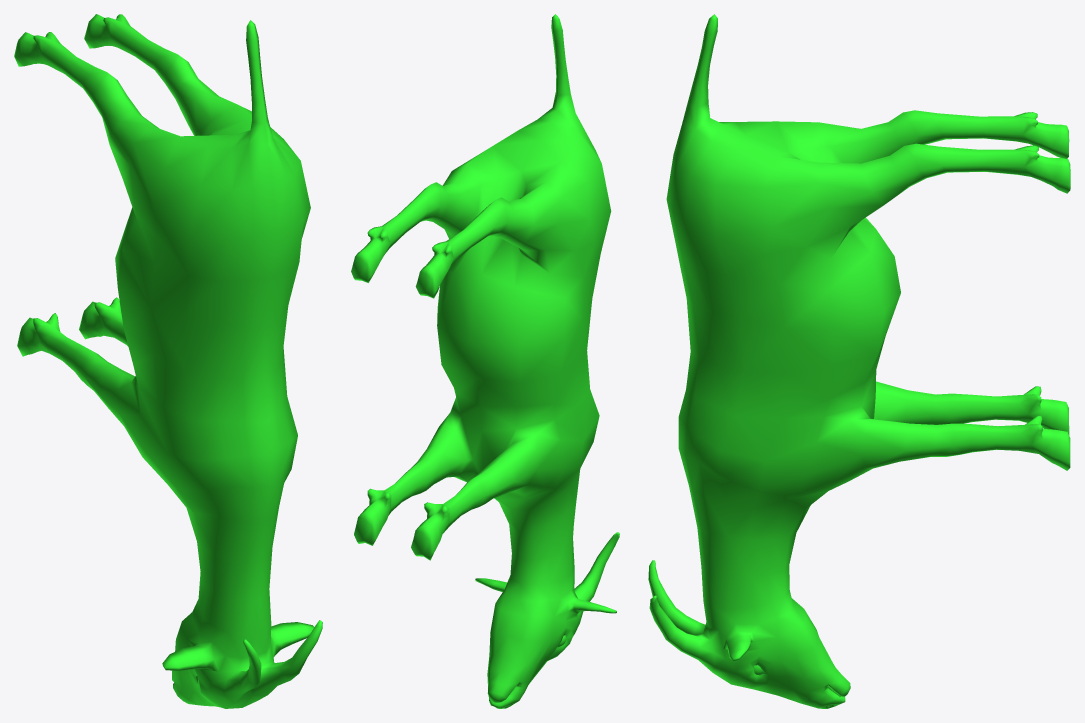
The model's file is Goat.obj.
The picture shows the model from 3 angles, left to right: view 1: azimuth 30°, elevation 25°; view 2: azimuth 150°, elevation 25°; view 3: azimuth 270°, elevation 25°; orthographic projection. The views are drawn at different scales.
Visible parts, largest first — view 1: Goat; view 2: Goat; view 3: Goat.
Boxes of the visible parts, x1,y1,x2,y2 form: Goat: (14,14,322,708); Goat: (351,14,619,708); Goat: (648,14,1070,708).
Bounding box in the file's own units: 0.2214 × 1 × 0.5519.
